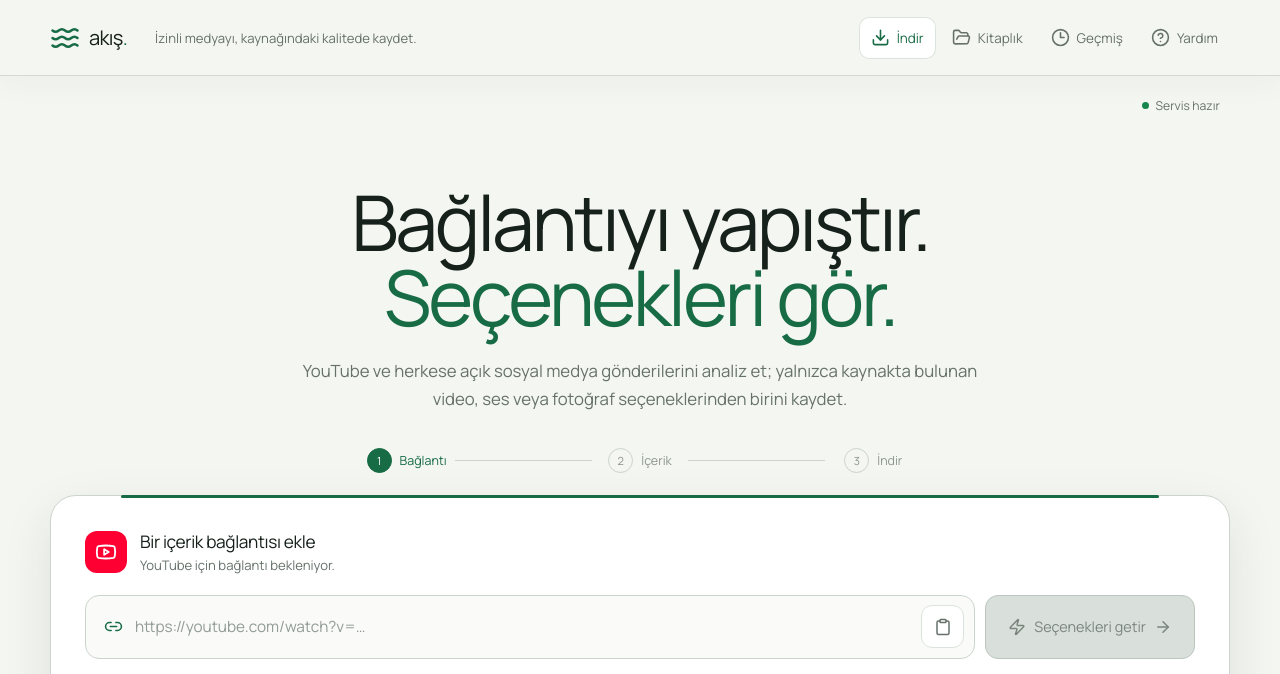
Test: Akış workspace › lets the user retry a failed status request
The width and height of the screenshot is (1280, 674).
Type "https://www.youtube.com/watch?v=test" into the field named "İçerik bağlantısı". click: {"x": 522, "y": 627}
box: [133,615,911,638]
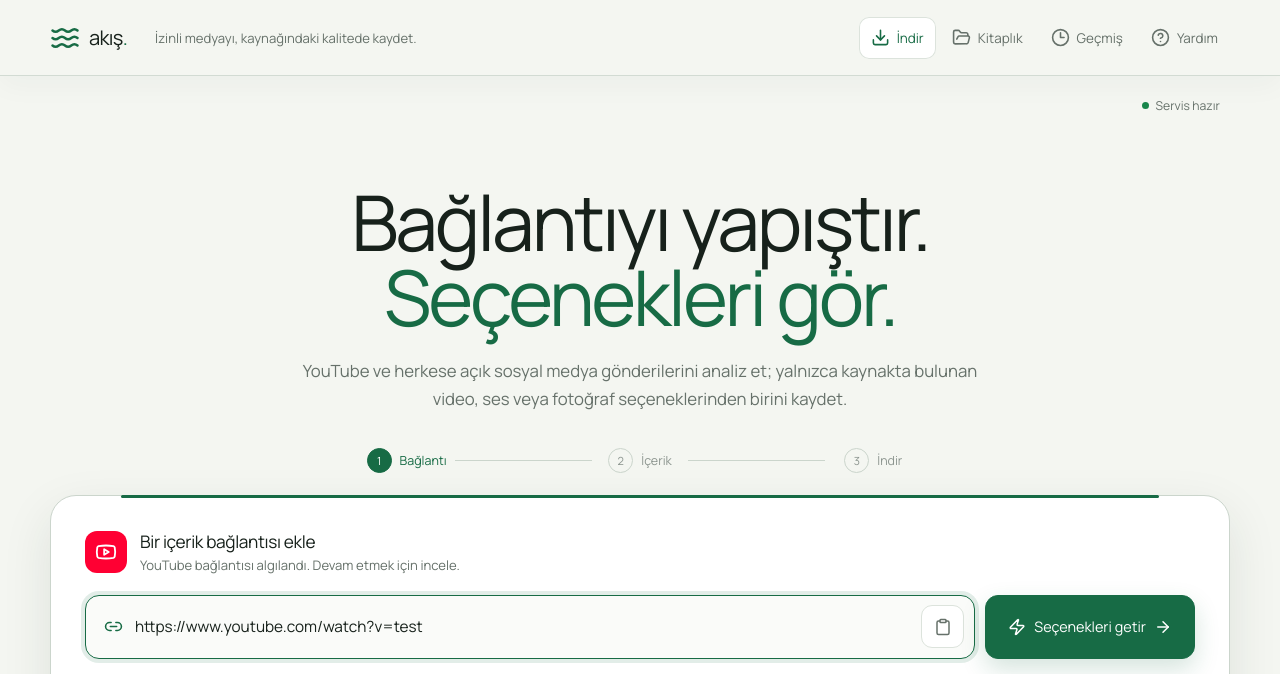
Click the button "Seçenekleri getir". click: {"x": 1090, "y": 627}
box: [985,595,1195,659]
(page scrolled)
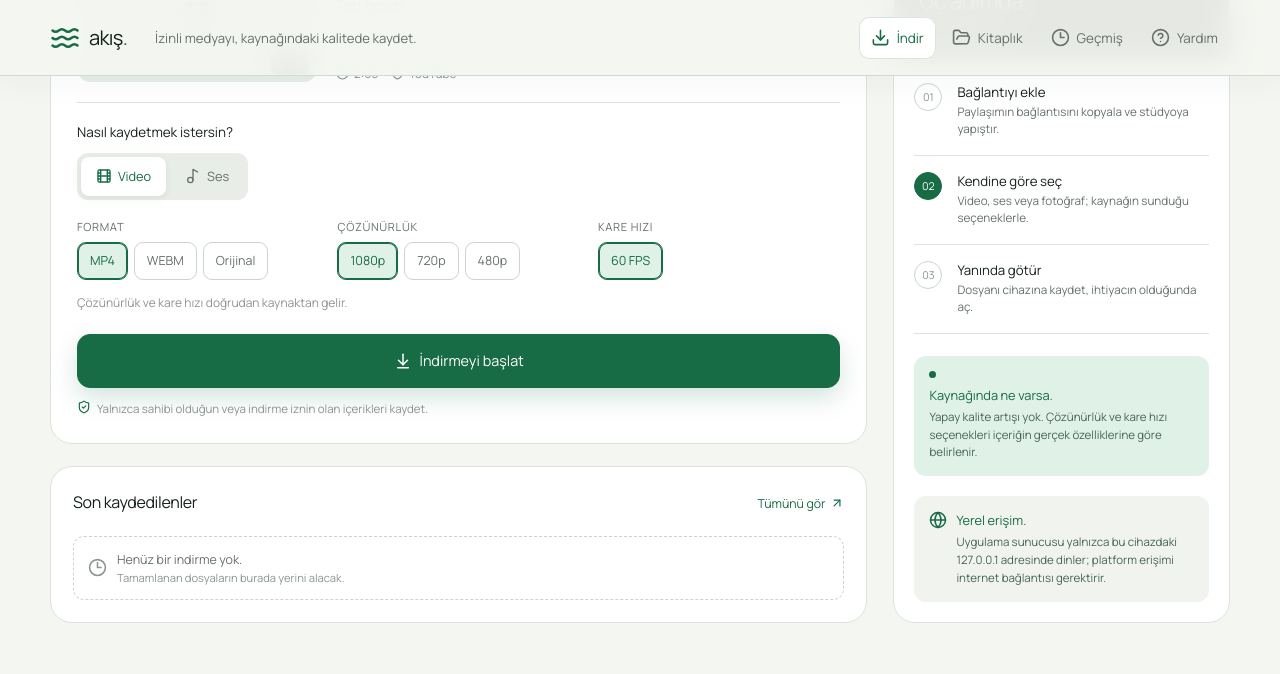
Check: the button "İndirmeyi başlat" is shown
Click the button "İndirmeyi başlat". click: {"x": 459, "y": 361}
box: [77,334,840,388]
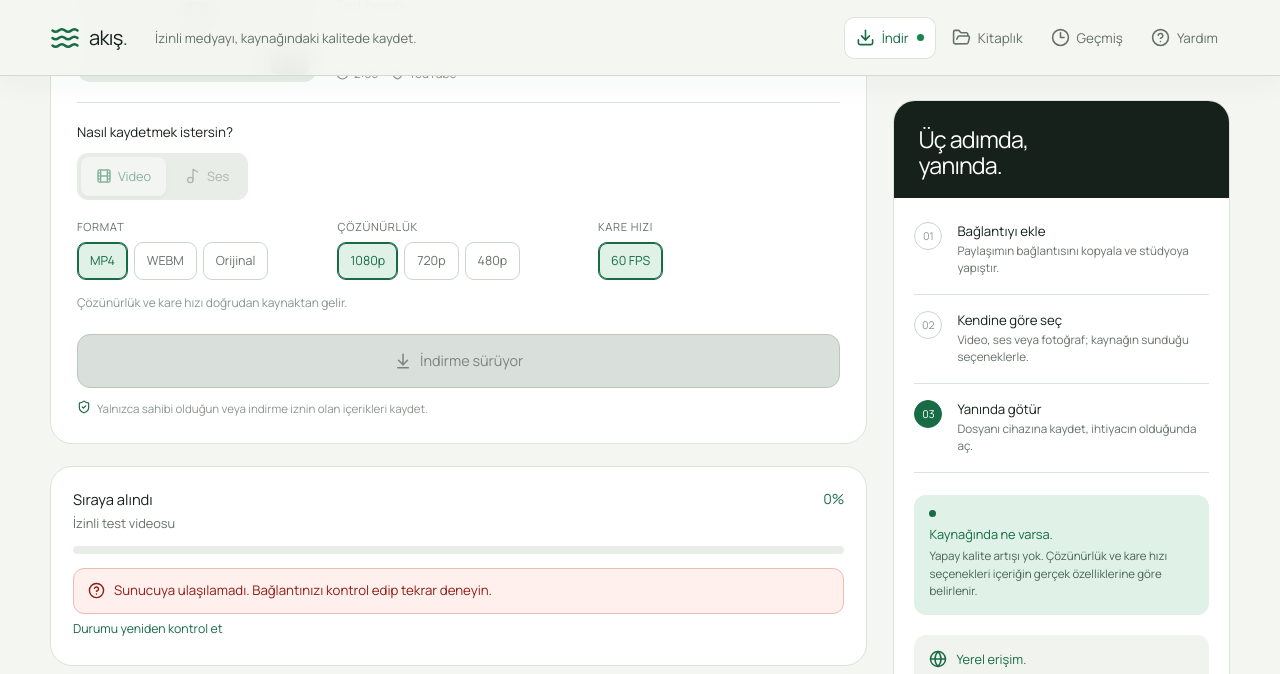
Click the button "Durumu yeniden kontrol et". click: {"x": 148, "y": 628}
box: [73,614,223,643]
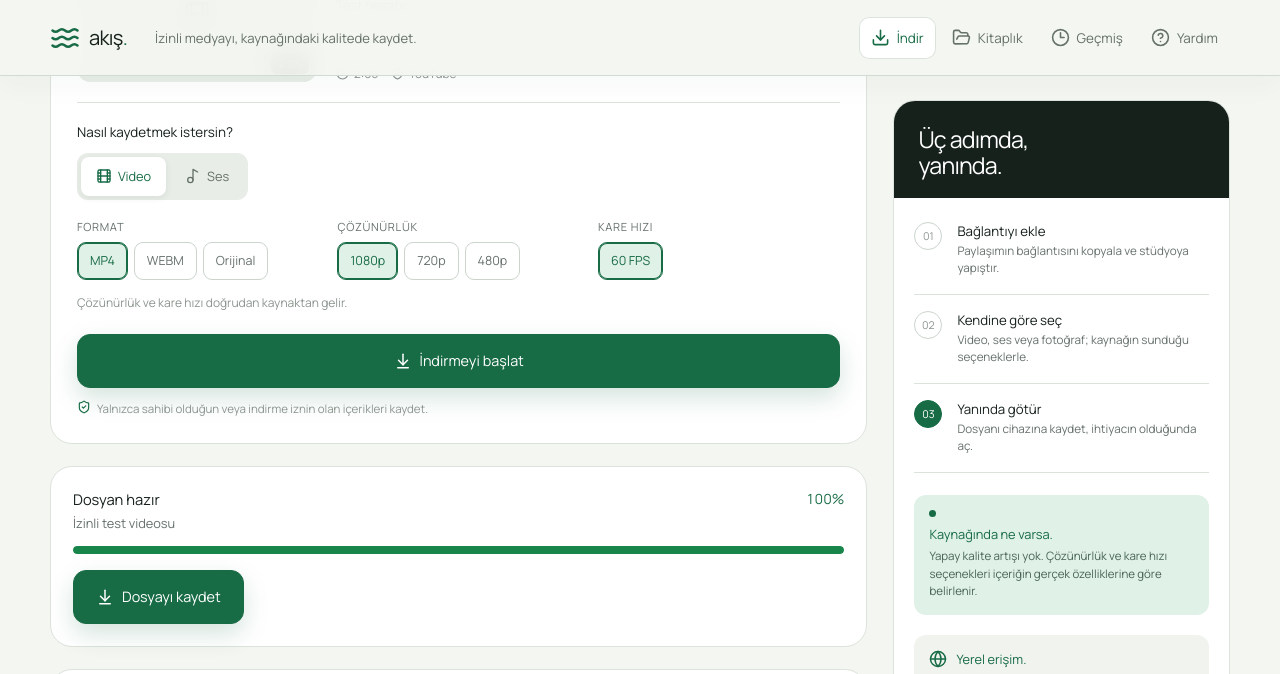
Check: the text "Dosyan hazır" is shown, box [73,489,160,509]
